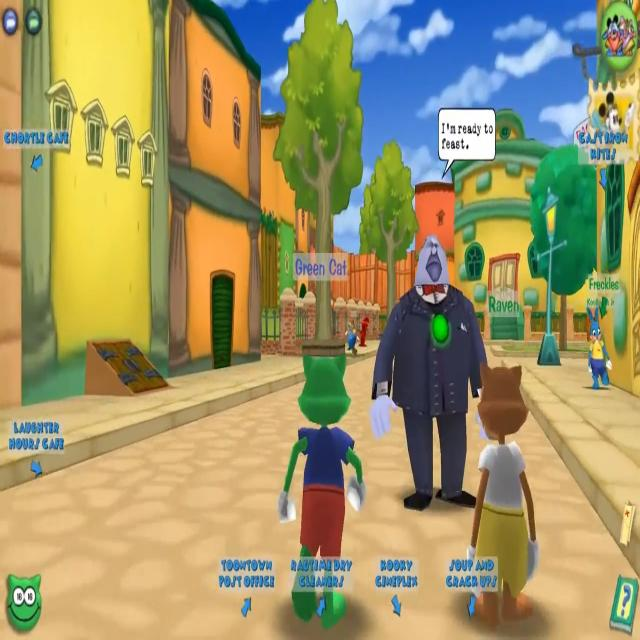bottomfeeder: (367, 112, 500, 502)
